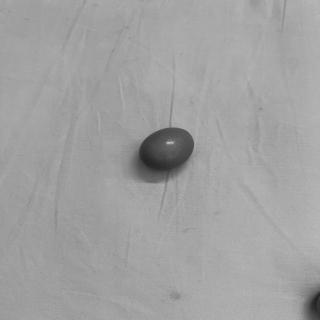Telur: (135, 125, 199, 175)
